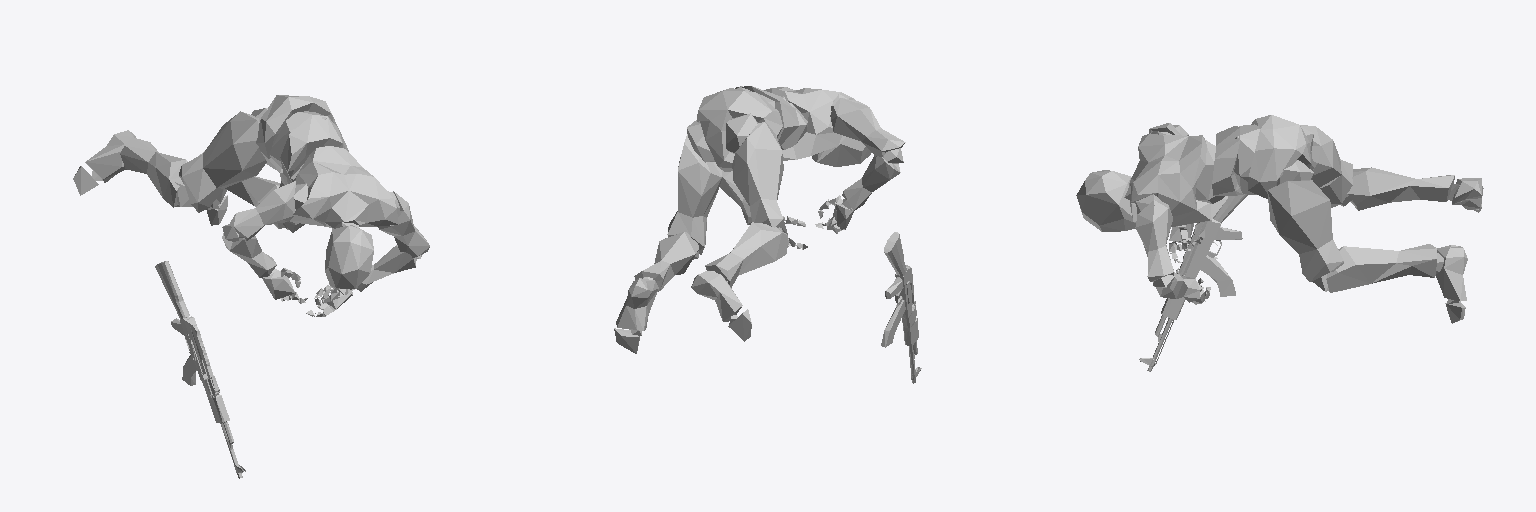
Rendered from EnemyDying_000043.obj.
3 views of the same model, side by side, from view 1: azimuth 30°, elevation 25°; view 2: azimuth 150°, elevation 25°; view 3: azimuth 270°, elevation 25° (orthographic).
Visible parts, largest first — view 1: Alpha_Surface, AK-47_Cube, Alpha_Joints; view 2: Alpha_Surface, AK-47_Cube, Alpha_Joints; view 3: Alpha_Surface, Alpha_Joints, AK-47_Cube.
Boxes of the visible parts, x1=… form: Alpha_Surface: x1=73, y1=95, x2=429, y2=316; AK-47_Cube: x1=155, y1=261, x2=245, y2=478; Alpha_Joints: x1=92, y1=108, x2=422, y2=316; Alpha_Surface: x1=614, y1=86, x2=905, y2=353; AK-47_Cube: x1=881, y1=232, x2=921, y2=383; Alpha_Joints: x1=631, y1=86, x2=903, y2=335; Alpha_Surface: x1=1076, y1=115, x2=1483, y2=323; Alpha_Joints: x1=1124, y1=124, x2=1478, y2=303; AK-47_Cube: x1=1139, y1=194, x2=1248, y2=371.
Size of the model in its own units: 189 by 248 by 295.